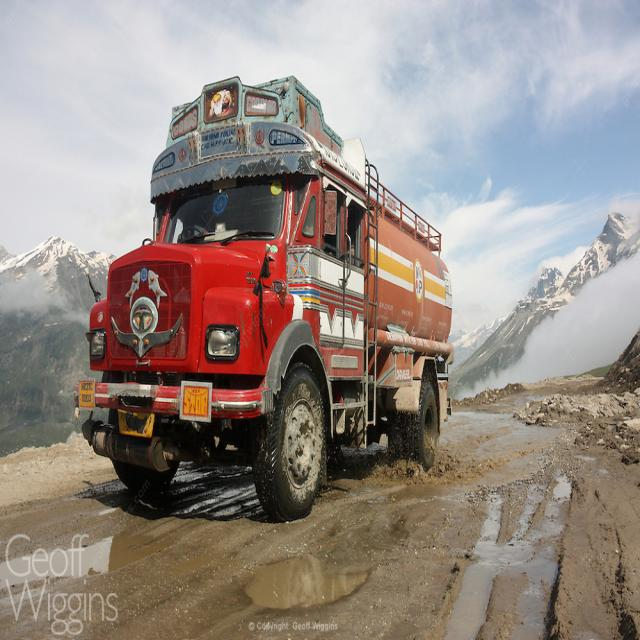normal_truck: (75, 77, 454, 521)
